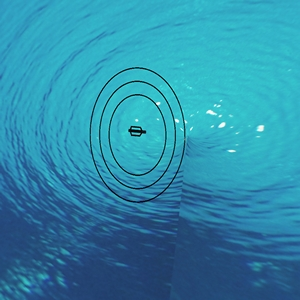circle: (88, 59, 192, 206)
